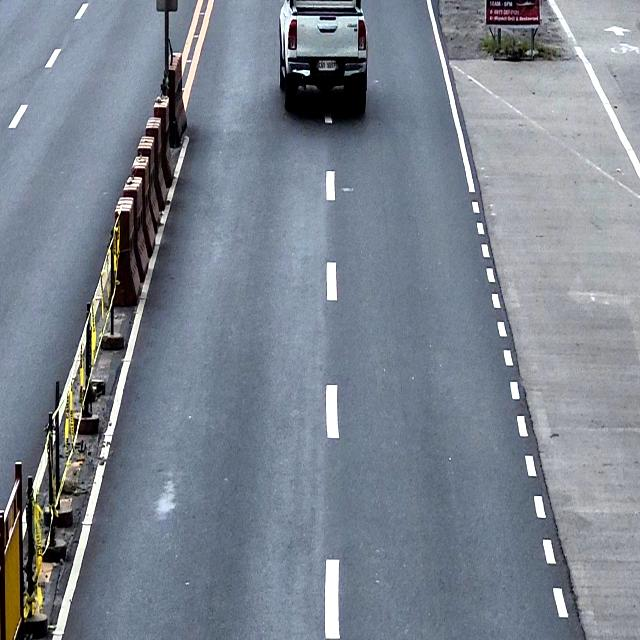Car: (278, 0, 368, 113)
License-Plate: (316, 58, 337, 72)
